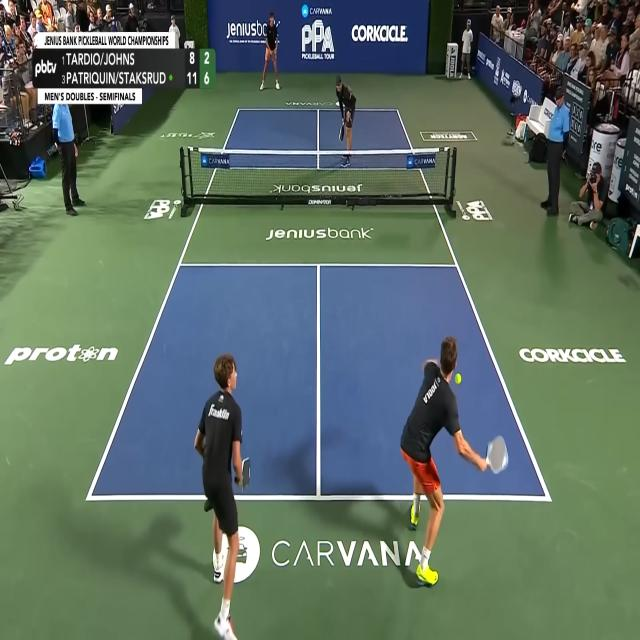ball: (455, 372, 462, 384)
